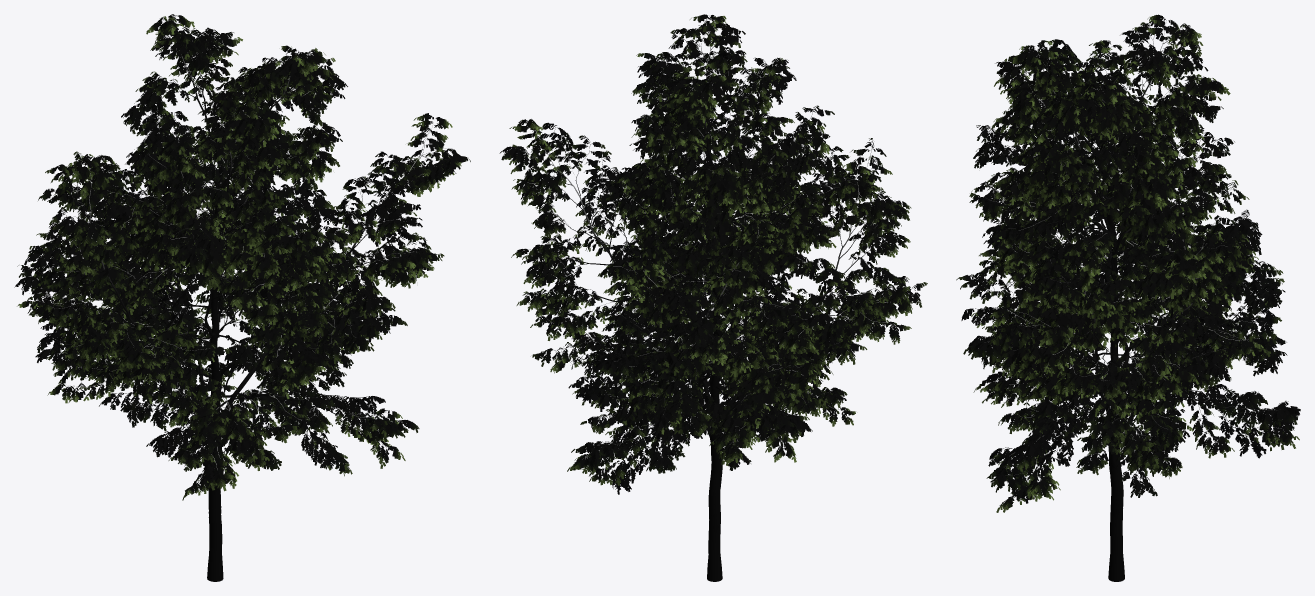
The model's file is lucious tree.fbx.
3 renders of one model, left to right at view 1: azimuth 30°, elevation 25°; view 2: azimuth 150°, elevation 25°; view 3: azimuth 270°, elevation 25°, orthographic. The views are drawn at different scales.
Visible parts, largest first — view 1: Tree_Robinia-pseudoacacia_A_summer; view 2: Tree_Robinia-pseudoacacia_A_summer; view 3: Tree_Robinia-pseudoacacia_A_summer.
Boxes of the visible parts, x1,y1,x2,y2 form: Tree_Robinia-pseudoacacia_A_summer: [14, 14, 470, 581]; Tree_Robinia-pseudoacacia_A_summer: [499, 14, 927, 581]; Tree_Robinia-pseudoacacia_A_summer: [956, 14, 1300, 581].
Bounding box in the file's own units: 1099 × 1386 × 779.
